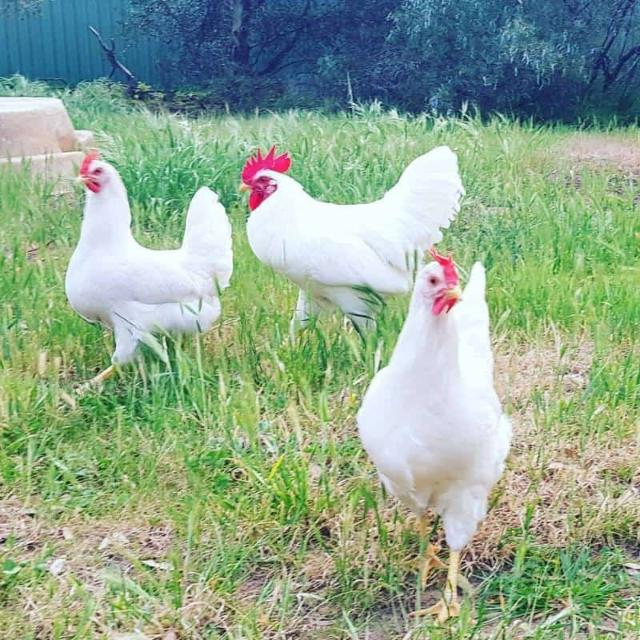Chicken: (359, 251, 512, 629), (239, 147, 464, 342), (63, 147, 233, 395)
